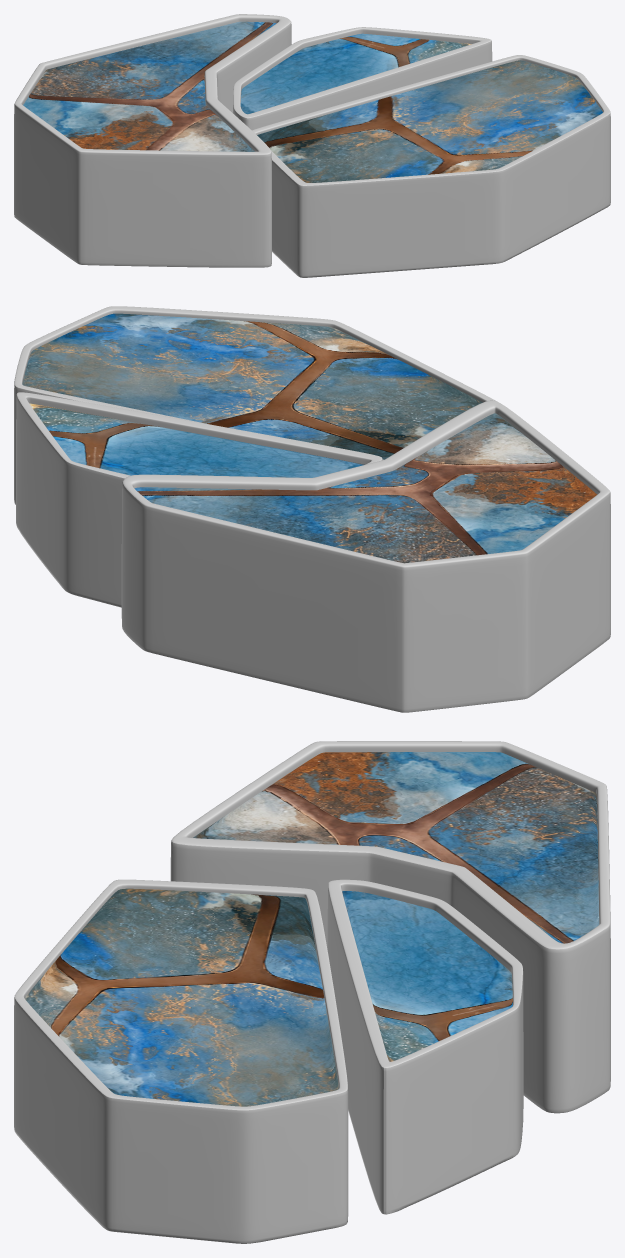
The model's file is SLN_AVANTA_CT.glb.
3 renders of one model, top to bottom at view 1: azimuth 30°, elevation 25°; view 2: azimuth 150°, elevation 25°; view 3: azimuth 270°, elevation 25°, orthographic. The views are drawn at different scales.
Visible parts, largest first — view 1: Aventa CT; view 2: Aventa CT; view 3: Aventa CT.
Boxes of the visible parts, box(x1,y1,x2,y2) form: Aventa CT: box(14, 14, 610, 277); Aventa CT: box(14, 306, 610, 712); Aventa CT: box(14, 741, 610, 1243).
Bounding box in the file's own units: 1.63 × 0.3705 × 1.21.
Materials: 2 (1 with a texture image).
